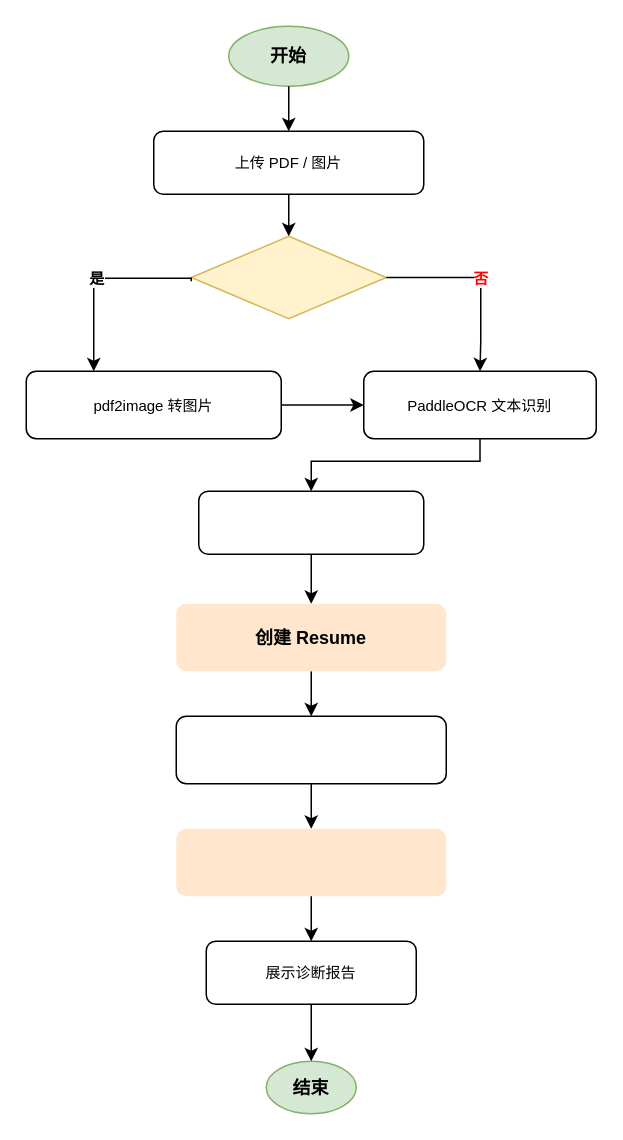
This 623x1140 diagram has some shape labels left out. Each missing label, with the centre of its shape:
文件类型是PDF？: point 288,277
解析文本: point 310,522
调用 DeepSeek API （诊断 Prompt）: point 310,749
返回评分 + 维度分析 + 修改建议: point 310,861
